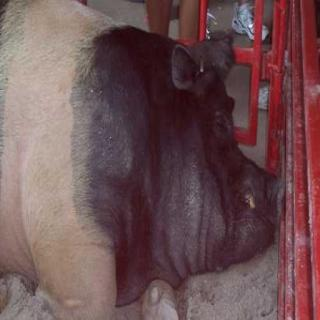Pig: (0, 34, 283, 272)
